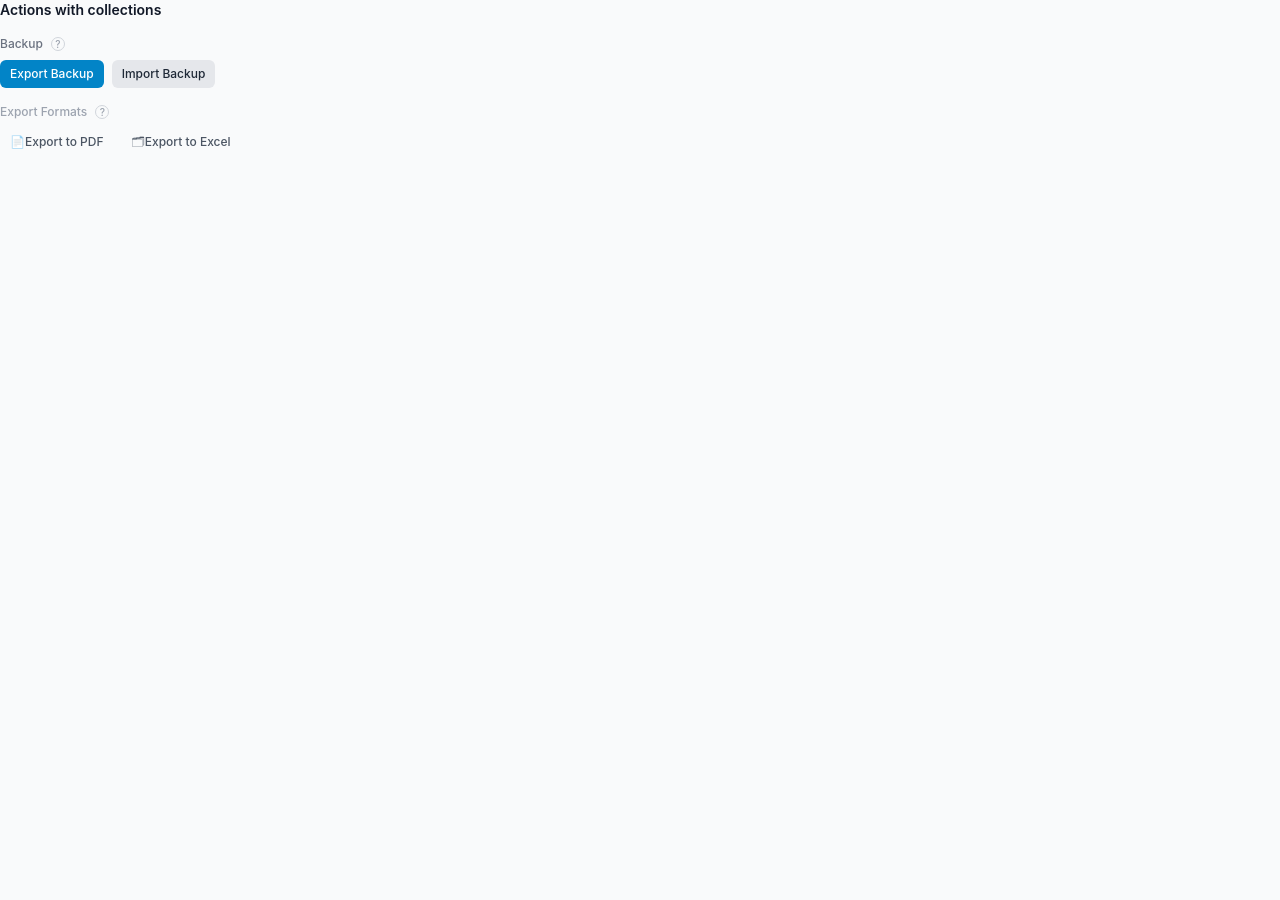
Test: BackupSection › displays default error fallback when export fails with empty message
The image size is (1280, 900).
Click the button "Export Backup" at point(52, 74), box [0,60,104,88]
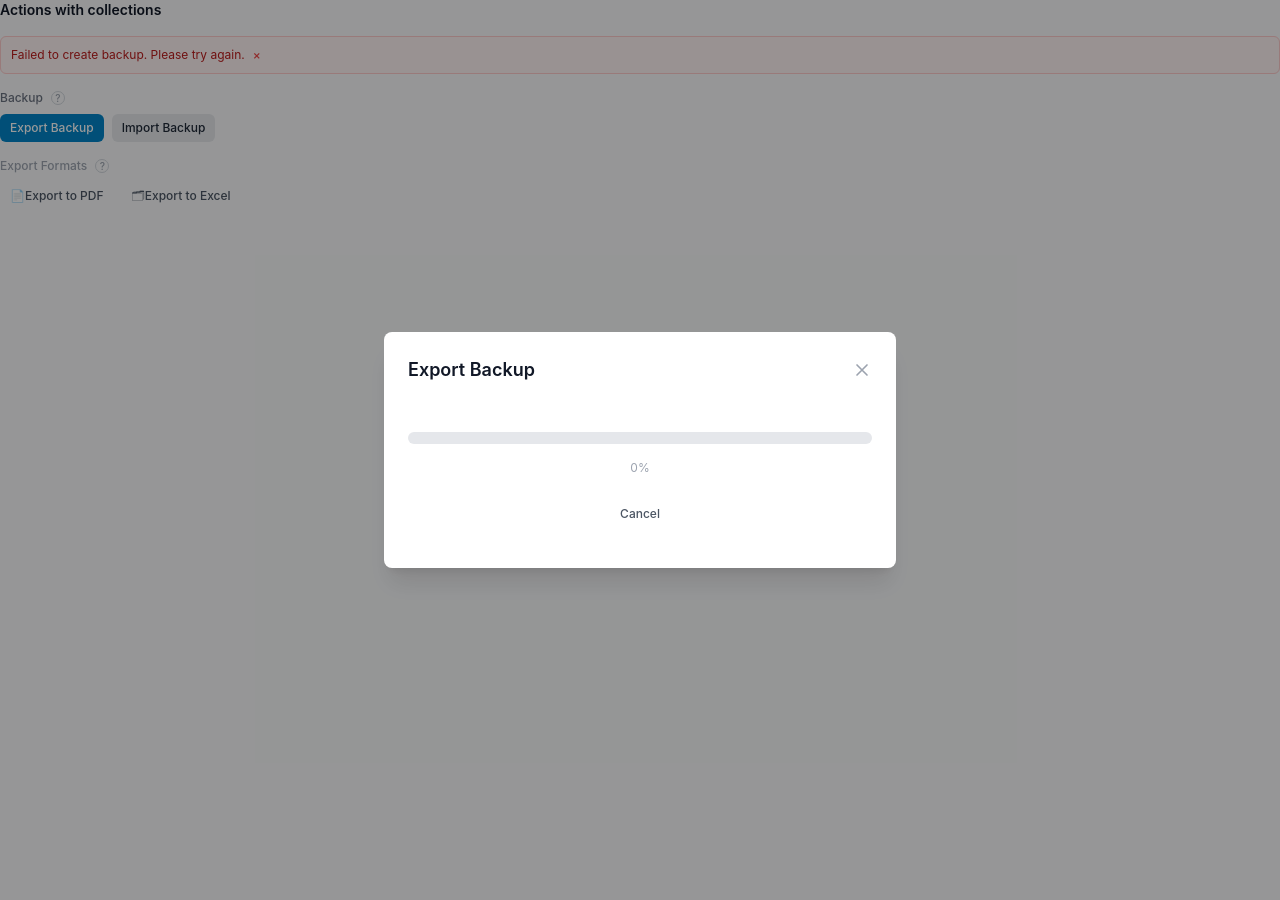
Expected: the message "Failed to create backup. Please try again. ×" is shown, [0,36,1279,74]
